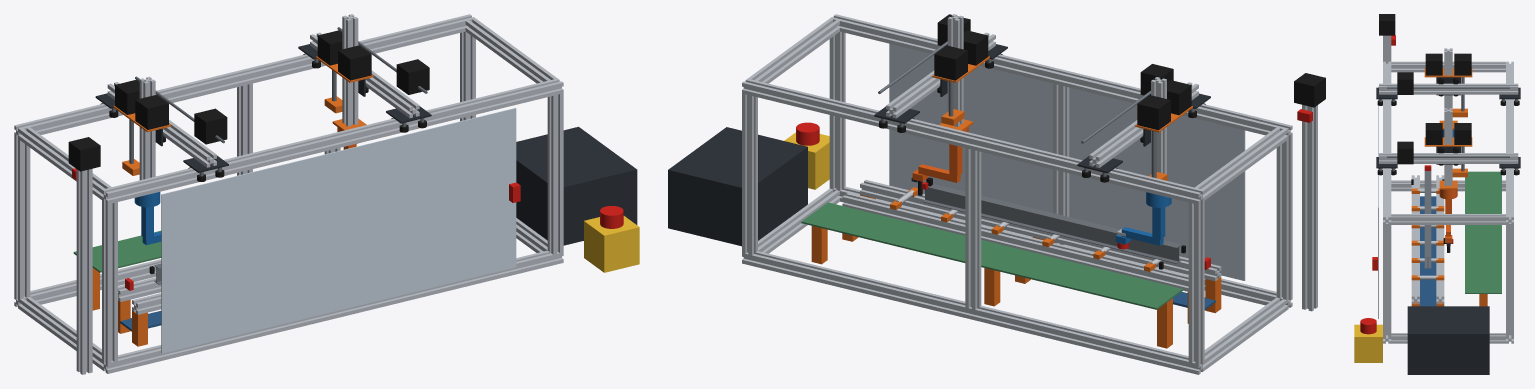
File: prototype.glb
3 renders of one model, left to right at view 1: azimuth 30°, elevation 25°; view 2: azimuth 150°, elevation 25°; view 3: azimuth 270°, elevation 25°, orthographic. The views are drawn at different scales.
Visible parts, largest first — view 1: P39-1 enclosure_front, P44-1 control_box, P01-2 top_rail, P01-7 top_rail, P01-1 base_rail, P01-21 camera_post, P01-5 upright, P01-8 upright, P01-3 upright, P32-1 estop, P01-14 cross_member, P01-6 base_rail (+20 smaller); view 2: P39-1 enclosure_front, P44-1 control_box, P07-1 outfeed_table, P01-6 base_rail, P01-7 top_rail, P01-2 top_rail, P01-16 bed_rail, P28-1 model_beam, P01-21 camera_post, P01-15 bed_rail, P01-8 upright, P01-9 upright (+23 smaller); view 3: P44-1 control_box, P07-1 outfeed_table, P01-17 bridge, P01-14 cross_member, P01-2 top_rail, P01-19 bridge, P09-1 scrap_tray, P01-7 top_rail, P01-5 upright, P32-1 estop, P01-10 upright, P01-12 cross_member (+24 smaller).
Boxes of the visible parts, box(x1,y1,x2,y2) form: P39-1 enclosure_front: box(161, 108, 516, 353); P44-1 control_box: box(516, 126, 637, 245); P01-2 top_rail: box(102, 78, 563, 204); P01-7 top_rail: box(14, 14, 475, 139); P01-1 base_rail: box(102, 250, 563, 373); P01-21 camera_post: box(76, 168, 92, 374); P01-5 upright: box(547, 93, 563, 254); P01-8 upright: box(14, 136, 30, 299); P01-3 upright: box(102, 200, 117, 363); P32-1 estop: box(584, 216, 639, 272); P01-14 cross_member: box(465, 18, 557, 83); P01-6 base_rail: box(14, 259, 161, 309); P39-1 enclosure_front: box(889, 43, 1245, 280); P44-1 control_box: box(668, 127, 807, 246); P07-1 outfeed_table: box(801, 202, 1183, 309); P01-6 base_rail: box(742, 251, 1204, 374); P01-7 top_rail: box(742, 78, 1204, 204); P01-2 top_rail: box(830, 14, 1292, 140); P01-16 bed_rail: box(842, 192, 1188, 291); P28-1 model_beam: box(922, 184, 1181, 263); P01-21 camera_post: box(1302, 104, 1317, 311); P01-15 bed_rail: box(860, 180, 1221, 281); P01-8 upright: box(1188, 201, 1204, 364); P01-9 upright: box(965, 148, 981, 309); P44-1 control_box: box(1407, 306, 1489, 374); P07-1 outfeed_table: box(1465, 171, 1501, 293); P01-17 bridge: box(1379, 83, 1518, 94); P01-14 cross_member: box(1391, 214, 1505, 224); P01-2 top_rail: box(1383, 61, 1391, 224); P01-19 bridge: box(1379, 153, 1518, 163); P09-1 scrap_tray: box(1420, 196, 1436, 306); P01-7 top_rail: box(1506, 61, 1513, 224); P01-5 upright: box(1383, 222, 1391, 336); P32-1 estop: box(1354, 324, 1382, 362); P01-10 upright: box(1506, 222, 1513, 336); P01-12 cross_member: box(1391, 61, 1505, 72).
Size of the model in its own units: 1.14 by 0.4753 by 0.406.
